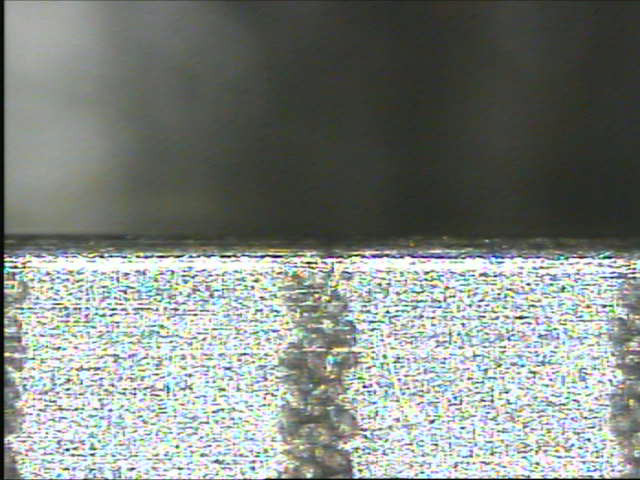line: (272, 255, 361, 475)
